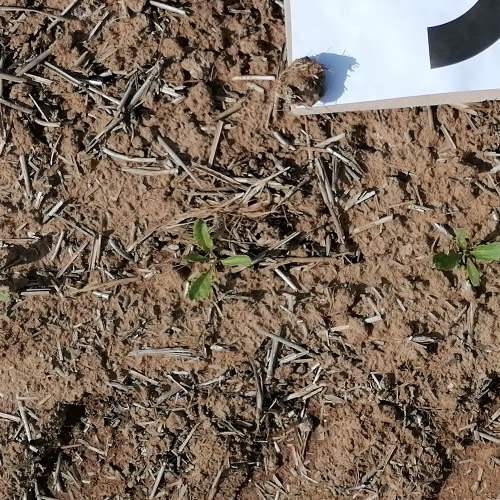beet: (185, 222, 251, 302), (433, 238, 500, 286)
